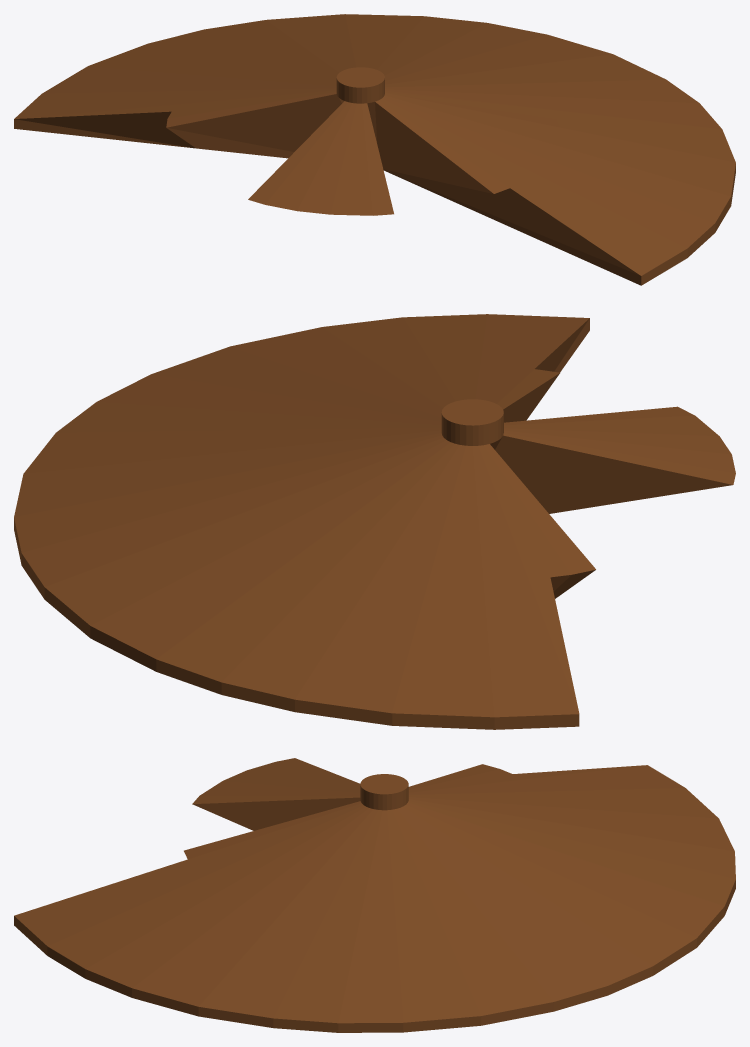
File: Lid_Three_1128.fbx
3 renders of one model, top to bottom at view 1: azimuth 30°, elevation 25°; view 2: azimuth 150°, elevation 25°; view 3: azimuth 270°, elevation 25°, orthographic. The views are drawn at different scales.
Visible parts, largest first — view 1: Lid_Three; view 2: Lid_Three; view 3: Lid_Three.
Part boxes in pixels (<box>): Lid_Three: <box>14,14,735,285</box>; Lid_Three: <box>14,314,735,729</box>; Lid_Three: <box>14,758,735,1032</box>.
Size of the model in its own units: 240 by 41.25 by 284.
